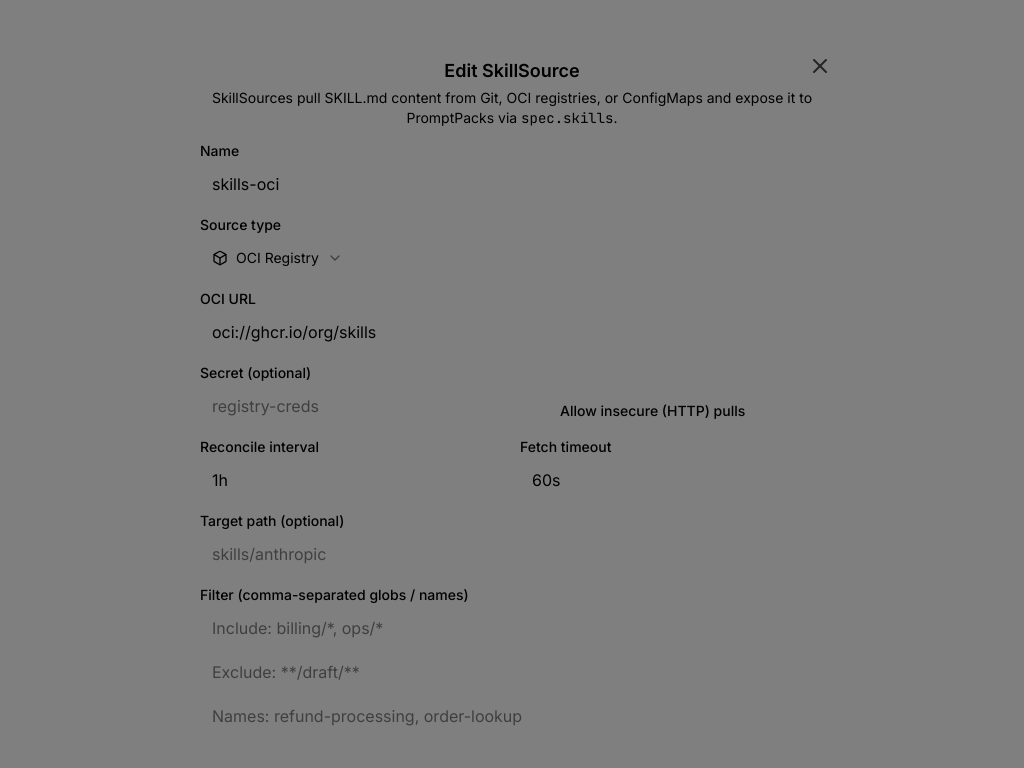
Scenario: SkillSourceDialog › shows inline OCI URL error for non-matching pattern
The width and height of the screenshot is (1024, 768).
Type "not-oci-url" into the field labelled "OCI URL" at (512, 332), box [200,314,824,350]
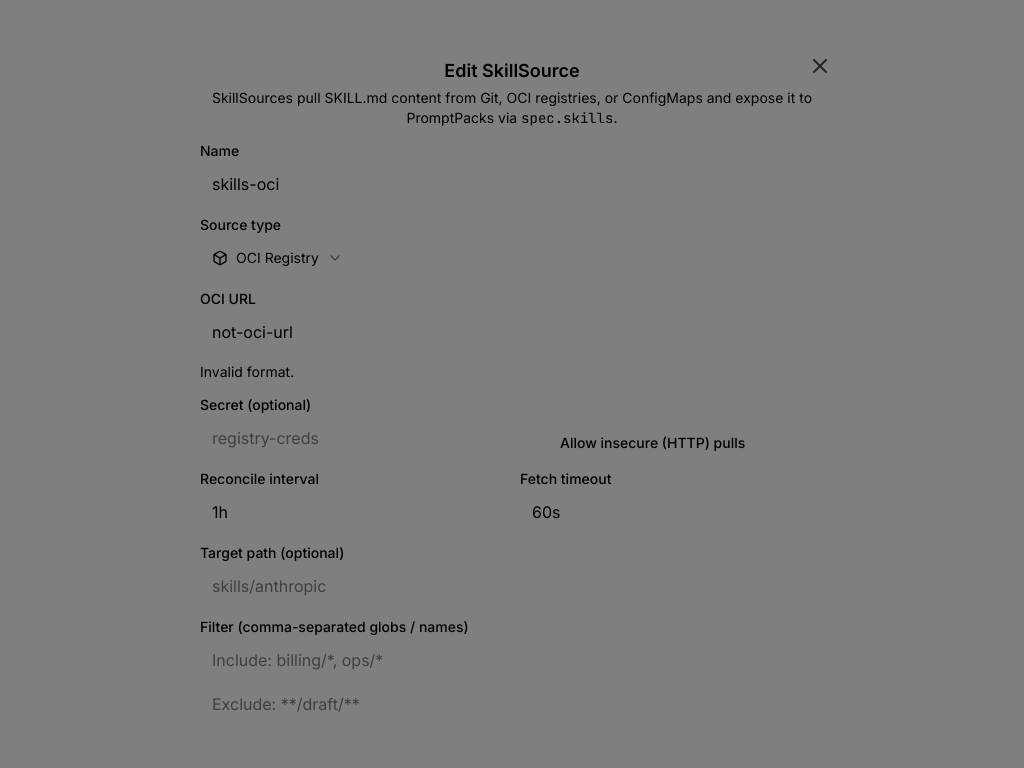
expect the text "Invalid format." is shown: met, box [200,363,294,380]
